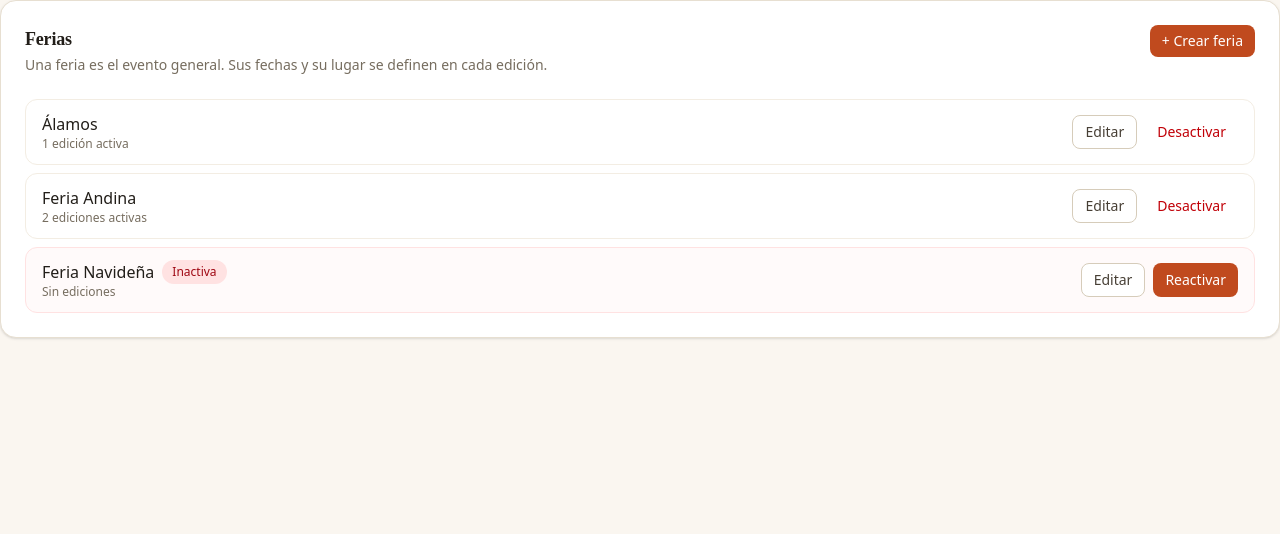
Test: GestionFerias: crear › si falla la creación muestra el error
Click the button "+ Crear feria" at coordinates (1202, 41), box [1150,25,1255,57]
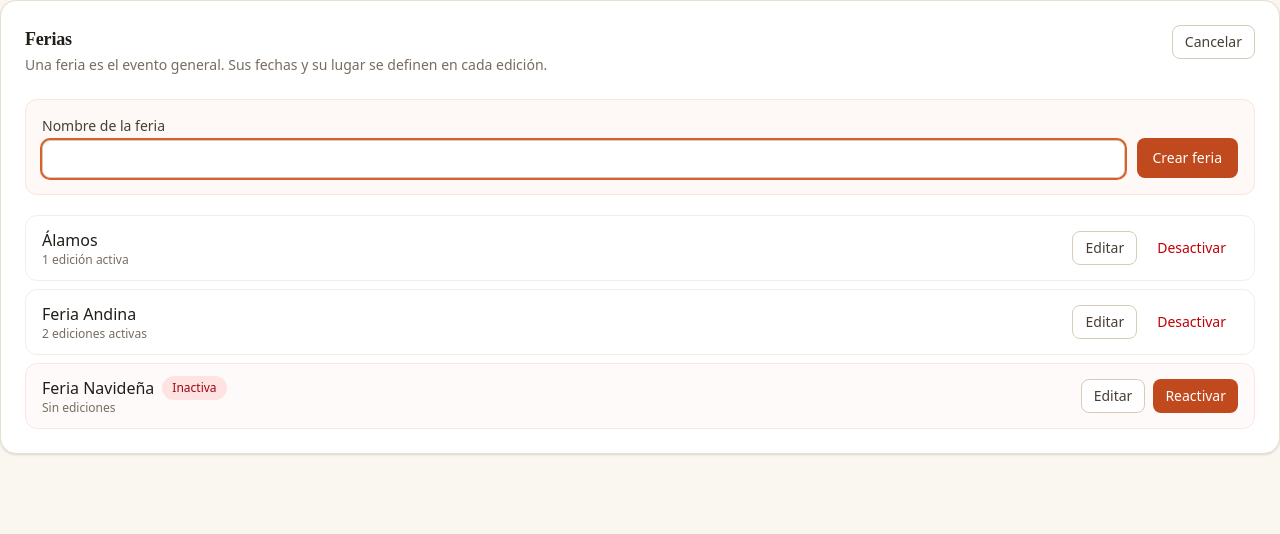
Type "Repetida" into the field labelled "Nombre de la feria" at coordinates (583, 159), box [42,140,1124,178]
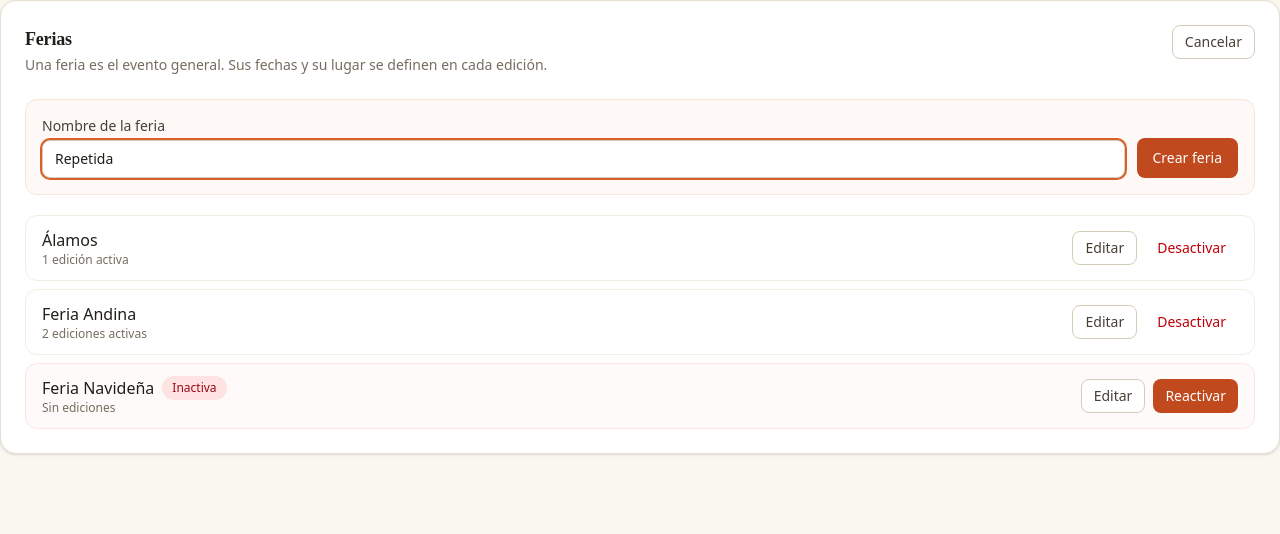
Click the button "Crear feria" at coordinates (1187, 158), box [1136,138,1238,178]
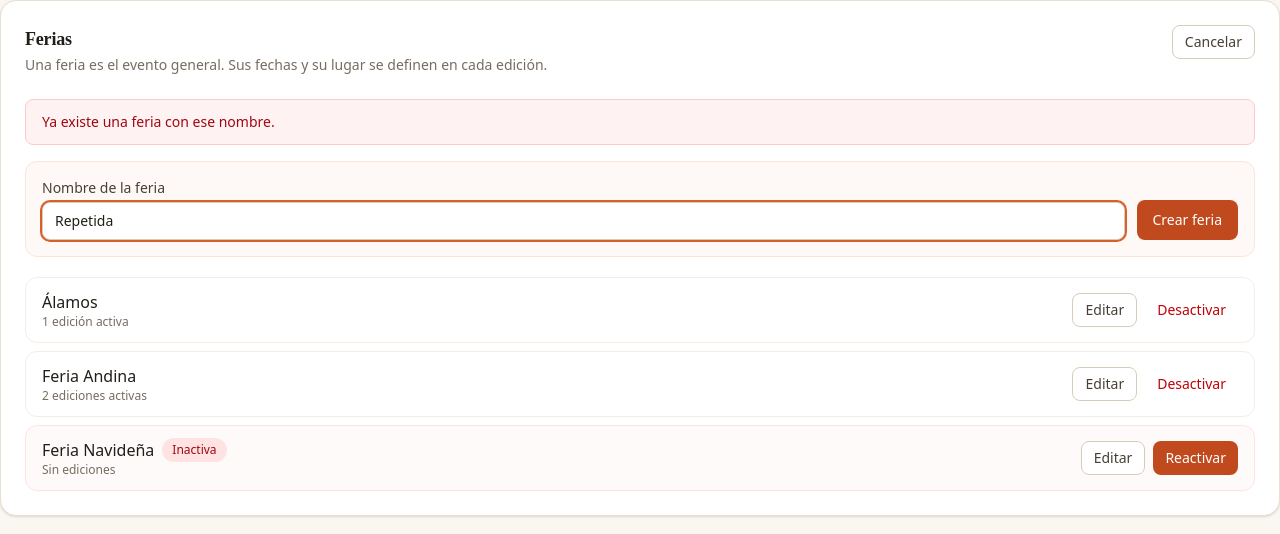
Check: the message reads "Ya existe una feria con ese nombre.", box [42,112,275,131]
